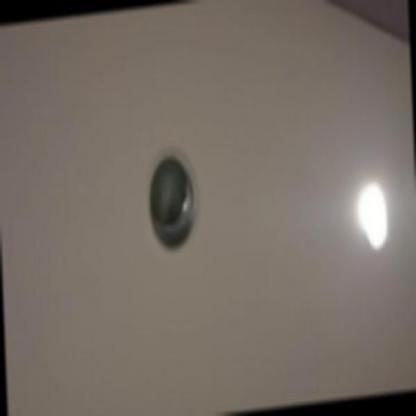light_off: (134, 109, 211, 288)
